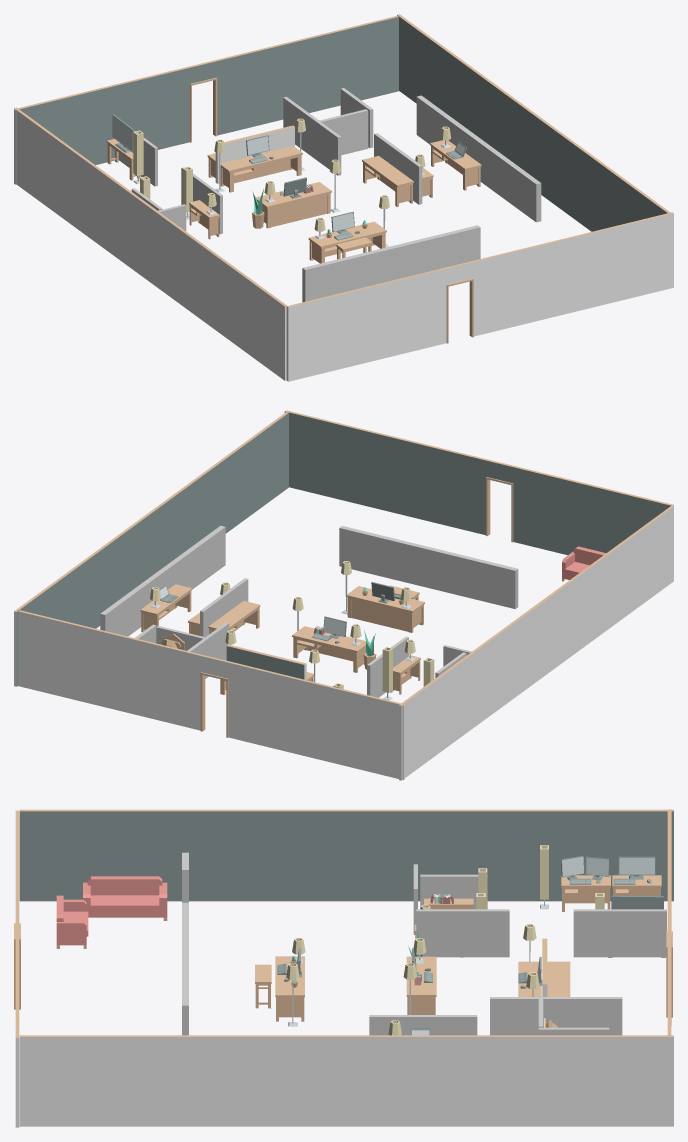
Rendered from lvl_1_office.fbx.
3 views of the same model, one above another, from view 1: azimuth 30°, elevation 25°; view 2: azimuth 150°, elevation 25°; view 3: azimuth 270°, elevation 25° (orthographic). The views are drawn at different scales.
Visible parts, largest first — view 1: wall1, wall2, wall11, wall9, wall10, wall8, wall4, wall7, wallDoorway1, wallDoorway, wall14, desk1 (+12 smaller); view 2: wall1, wall2, wall11, wall9, wall8, wall10, wall4, wall7, wallDoorway, wallDoorway1, desk, desk1 (+8 smaller); view 3: wall2, wall1, wall17, wall14, wall5, loungeSofa1, wall13, loungeSofa, wall6, desk, desk1, desk11 (+15 smaller).
Boxes of the visible parts, box(x1,y1,x2,y2) form: wall1: box(14, 107, 287, 380); wall2: box(397, 14, 670, 231); wall11: box(486, 212, 673, 332); wall9: box(230, 16, 398, 132); wall10: box(286, 271, 432, 381); wall8: box(14, 70, 175, 184); wall4: box(302, 225, 480, 302); wall7: box(416, 95, 541, 222); wallDoorway1: box(431, 257, 487, 346); wallDoorway: box(174, 56, 230, 145); wall14: box(283, 96, 341, 175); desk1: box(256, 182, 331, 228); wall1: box(399, 506, 673, 780); wall2: box(14, 412, 288, 686); wall11: box(284, 410, 473, 531); wall9: box(18, 610, 188, 727); wall8: box(242, 665, 404, 779); wall10: box(525, 469, 673, 555); wall4: box(339, 526, 518, 609); wall7: box(100, 525, 225, 636); wallDoorway: box(187, 651, 243, 740); wallDoorway1: box(472, 456, 528, 544); desk: box(346, 586, 424, 632); desk1: box(292, 626, 369, 672); wall2: box(19, 1035, 673, 1126); wall1: box(19, 809, 673, 901); wall17: box(573, 909, 666, 957); wall14: box(490, 997, 622, 1035); wall5: box(416, 909, 509, 957); loungeSofa1: box(83, 876, 167, 920); wall13: box(369, 1015, 477, 1035); loungeSofa: box(56, 895, 88, 948); wall6: box(420, 874, 487, 909); desk: box(275, 956, 304, 1021); desk1: box(406, 956, 436, 1014); desk11: box(561, 875, 610, 911).
Bounding box in the file's own units: 1460 × 268 × 1780.
